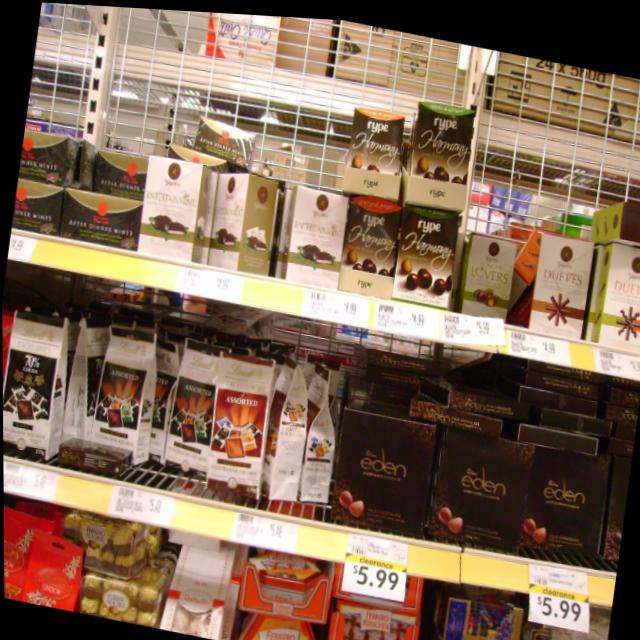q136: (386, 192, 467, 316), (406, 87, 475, 193)
q256: (2, 303, 75, 473)
